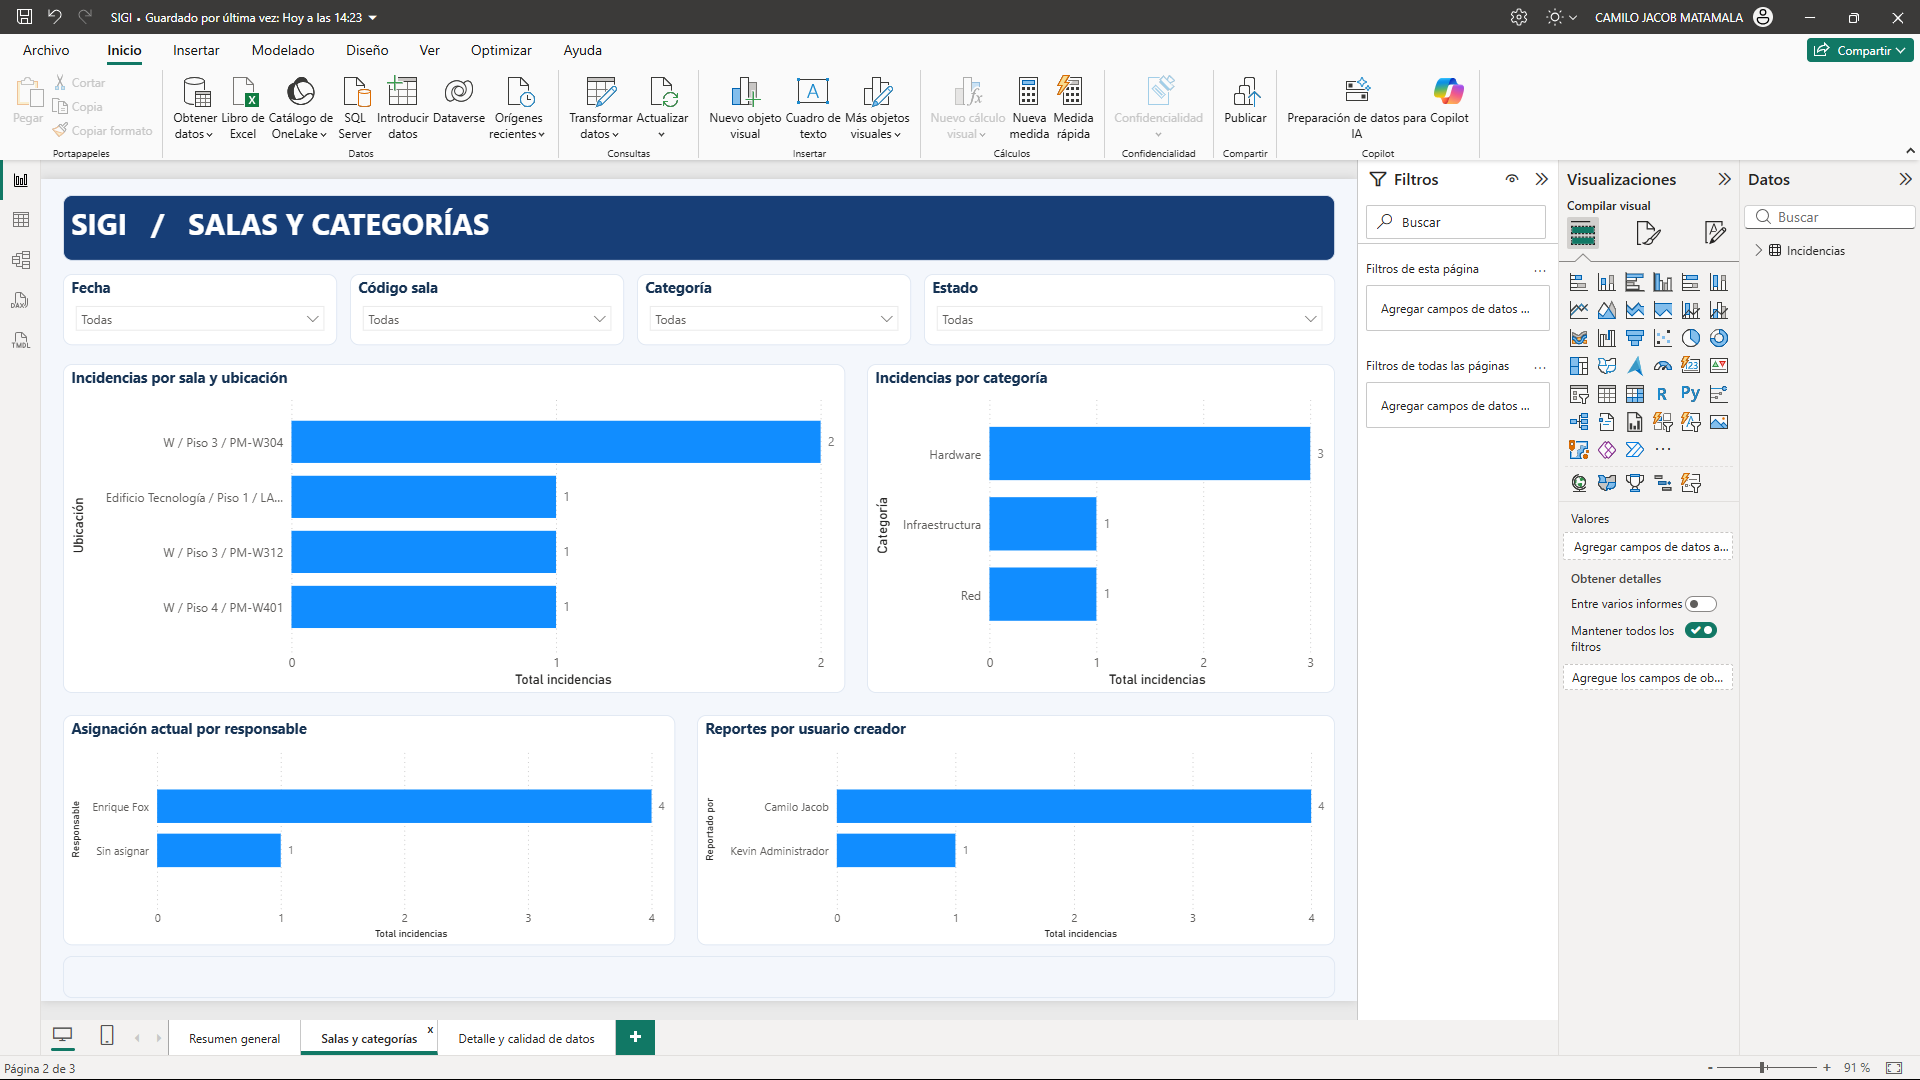

The page's visual inventory and layout, read from the dashboard file:
{"tool":"powerbi","page":{"name":"Salas y categorías","canvas":[1440,900],"ordinal":1},"visuals":[{"type":"slicer","title":"Categoría","fields":{"Values":["Incidencias.Categoría"]},"box":[652,104,300,78],"z":4},{"type":"textbox","box":[24,18,1392,72],"z":7},{"type":"slicer","title":"Fecha","fields":{"Values":["Incidencias.Fecha"]},"box":[24,104,300,78],"z":8},{"type":"slicer","title":"Código sala","fields":{"Values":["Incidencias.Código sala"]},"box":[338,104,300,78],"z":9},{"type":"slicer","title":"Estado","fields":{"Values":["Incidencias.Estado"]},"box":[966,104,450,78],"z":11},{"type":"textbox","box":[24,850,1392,46],"z":12},{"type":"clusteredBarChart","title":"Incidencias por sala y ubicación","fields":{"Category":["Incidencias.Ubicación"],"Y":["Incidencias.Total incidencias"]},"box":[24,202,856,360],"z":29},{"type":"clusteredBarChart","title":"Incidencias por categoría","fields":{"Category":["Incidencias.Categoría"],"Y":["Incidencias.Total incidencias"]},"box":[904,202,512,360],"z":30},{"type":"clusteredBarChart","title":"Asignación actual por responsable","fields":{"Category":["Incidencias.Responsable"],"Y":["Incidencias.Total incidencias"]},"box":[24,586,670,252],"z":31},{"type":"clusteredBarChart","title":"Reportes por usuario creador","fields":{"Category":["Incidencias.Reportado por"],"Y":["Incidencias.Total incidencias"]},"box":[718,586,698,252],"z":32}]}

Visuals, with their boxes on the page's 1440x900 design canvas (x1, y1, x2, y2). These are canvas units, not pixel positions in the 1920x1080 screenshot, which may show the page scaled, cropped or inside an application window:
"Categoría" slicer: {"left": 652, "top": 104, "right": 952, "bottom": 182}
textbox: {"left": 24, "top": 18, "right": 1416, "bottom": 90}
"Fecha" slicer: {"left": 24, "top": 104, "right": 324, "bottom": 182}
"Código sala" slicer: {"left": 338, "top": 104, "right": 638, "bottom": 182}
"Estado" slicer: {"left": 966, "top": 104, "right": 1416, "bottom": 182}
textbox: {"left": 24, "top": 850, "right": 1416, "bottom": 896}
"Incidencias por sala y ubicación" clusteredBarChart: {"left": 24, "top": 202, "right": 880, "bottom": 562}
"Incidencias por categoría" clusteredBarChart: {"left": 904, "top": 202, "right": 1416, "bottom": 562}
"Asignación actual por responsable" clusteredBarChart: {"left": 24, "top": 586, "right": 694, "bottom": 838}
"Reportes por usuario creador" clusteredBarChart: {"left": 718, "top": 586, "right": 1416, "bottom": 838}
